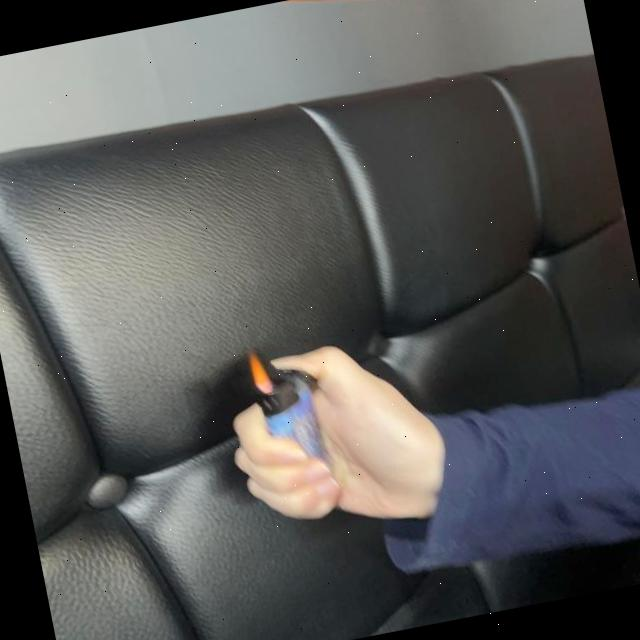fire: (247, 350, 275, 396)
